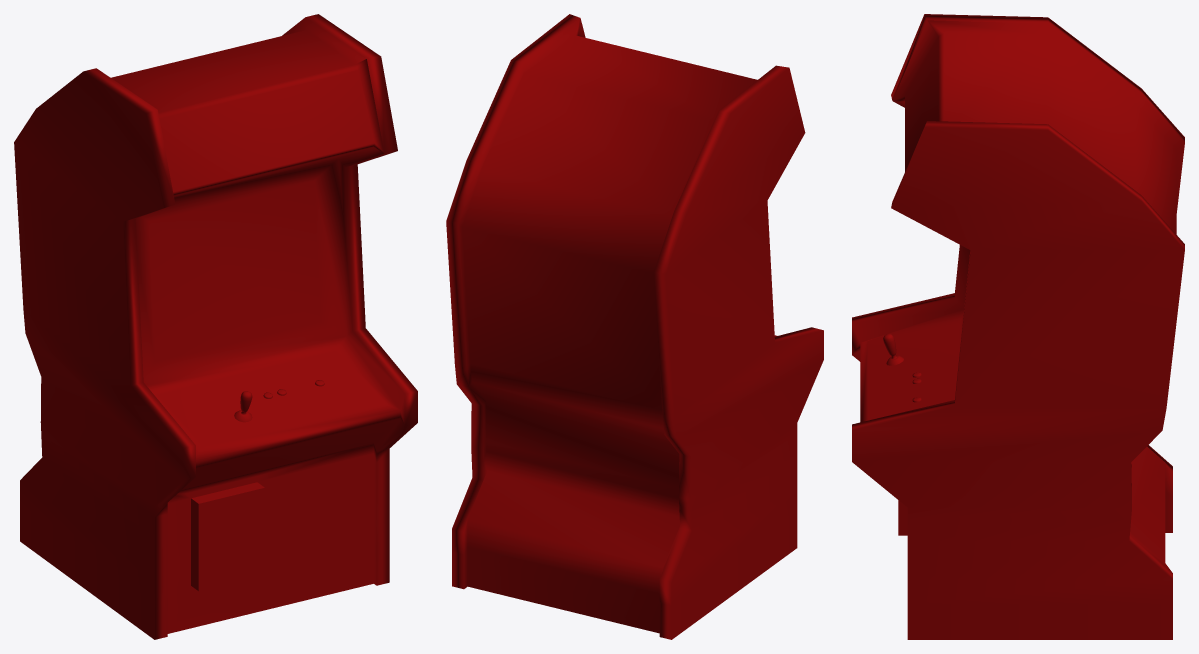
The model's file is Arcade_machine_mesh.fbx.
3 renders of one model, left to right at view 1: azimuth 30°, elevation 25°; view 2: azimuth 150°, elevation 25°; view 3: azimuth 270°, elevation 25°, orthographic. The views are drawn at different scales.
Visible parts, largest first — view 1: polySurface1; view 2: polySurface1; view 3: polySurface1.
Boxes of the visible parts, bbox=[...] form: polySurface1: bbox=[14, 14, 417, 639]; polySurface1: bbox=[446, 14, 823, 639]; polySurface1: bbox=[852, 14, 1184, 639].
Size of the model in its own units: 292 by 616 by 362.
